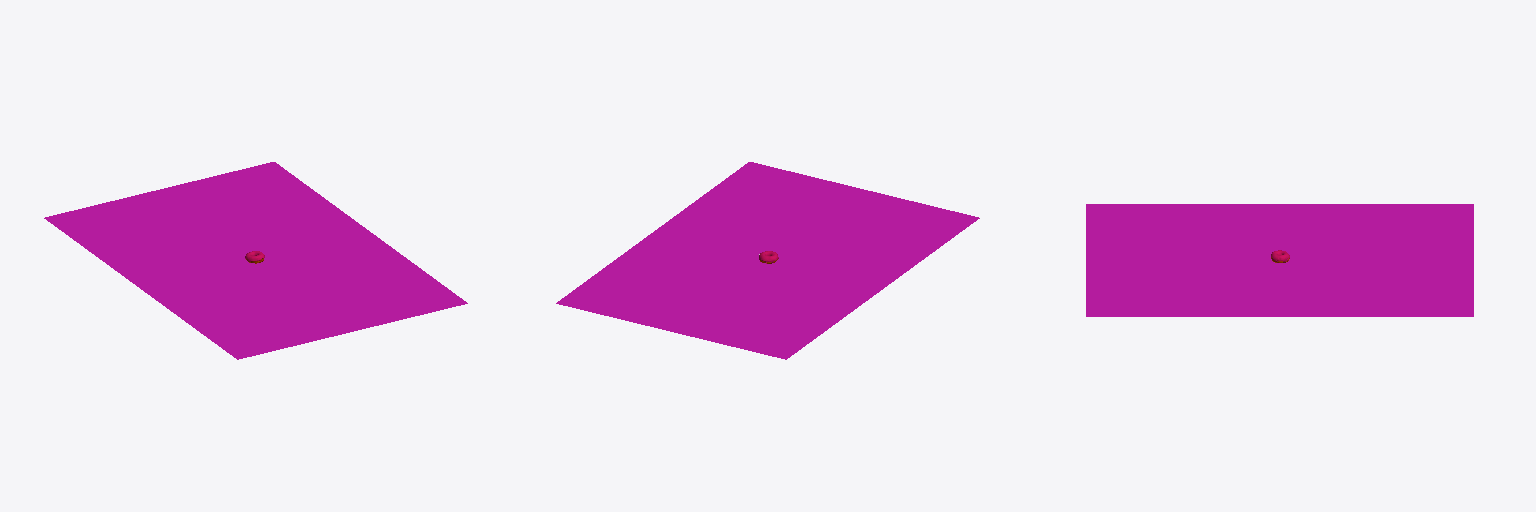
Rendered from donut.obj.
3 renders of one model, left to right at view 1: azimuth 30°, elevation 25°; view 2: azimuth 150°, elevation 25°; view 3: azimuth 270°, elevation 25°, orthographic.
Parts seen in each view (by area): view 1: Plane; view 2: Plane; view 3: Plane.
Part boxes in pixels (bbox=[...]): Plane: bbox=[44, 162, 467, 359]; Plane: bbox=[556, 162, 979, 359]; Plane: bbox=[1086, 204, 1473, 316].
Bounding box in the file's own units: 1.38 × 0.0537 × 2.01.